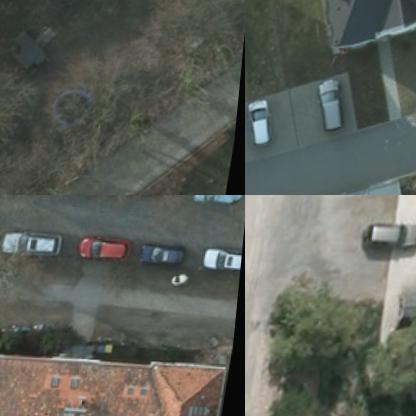car: (312, 80, 350, 136), (0, 232, 63, 265), (356, 224, 415, 254), (134, 244, 192, 274), (245, 100, 276, 150), (76, 237, 126, 264), (200, 251, 244, 277), (190, 195, 244, 215), (126, 195, 181, 209), (60, 195, 118, 205)
